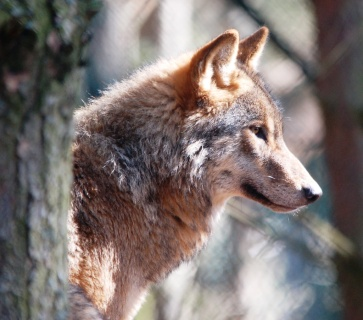Fox: (67, 23, 322, 318)
